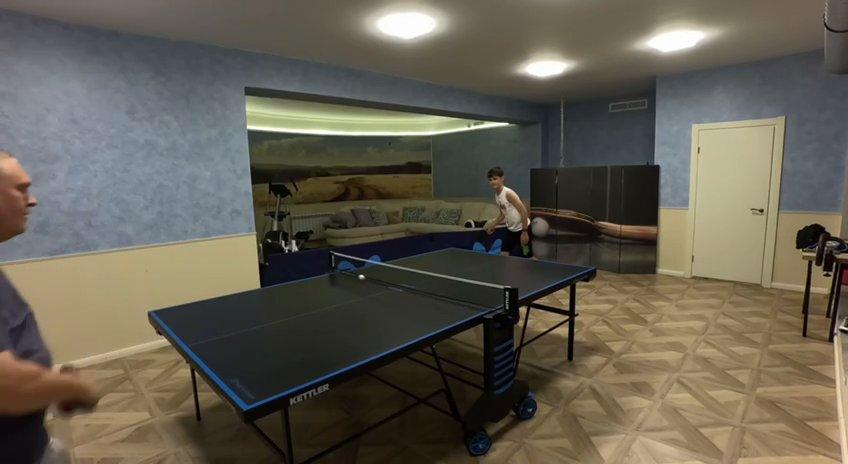Ball: (356, 272, 367, 281)
Net: (330, 251, 517, 317)
Player1: (485, 167, 530, 256)
Player2: (0, 270, 97, 463), (0, 150, 36, 242)
Table: (148, 247, 595, 410)
